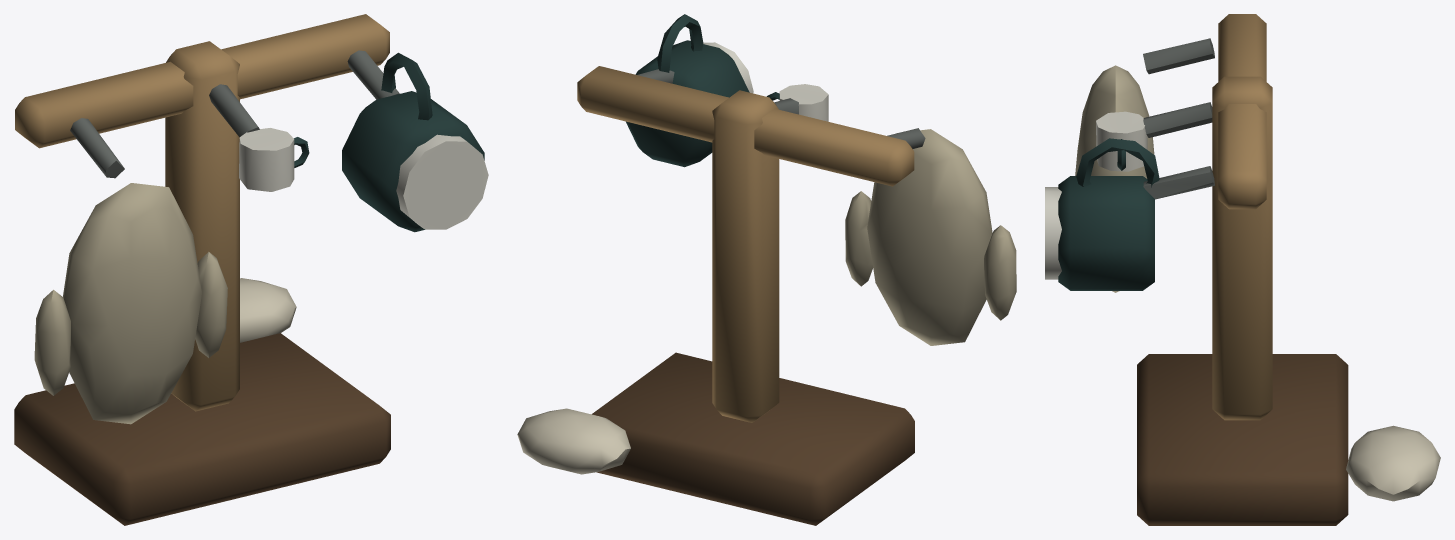
File: coat_hooks_a_lod1.glb
3 views of the same model, side by side, from view 1: azimuth 30°, elevation 25°; view 2: azimuth 150°, elevation 25°; view 3: azimuth 270°, elevation 25° (orthographic). The views are drawn at different scales.
Parts seen in each view (by area): view 1: Surface.001; view 2: Surface.001; view 3: Surface.001.
Boxes of the visible parts, x1=… form: Surface.001: x1=14, y1=14, x2=488, y2=525; Surface.001: x1=517, y1=14, x2=1016, y2=525; Surface.001: x1=1045, y1=14, x2=1440, y2=525.
Bounding box in the file's own units: 1.53 × 1.44 × 1.31.
